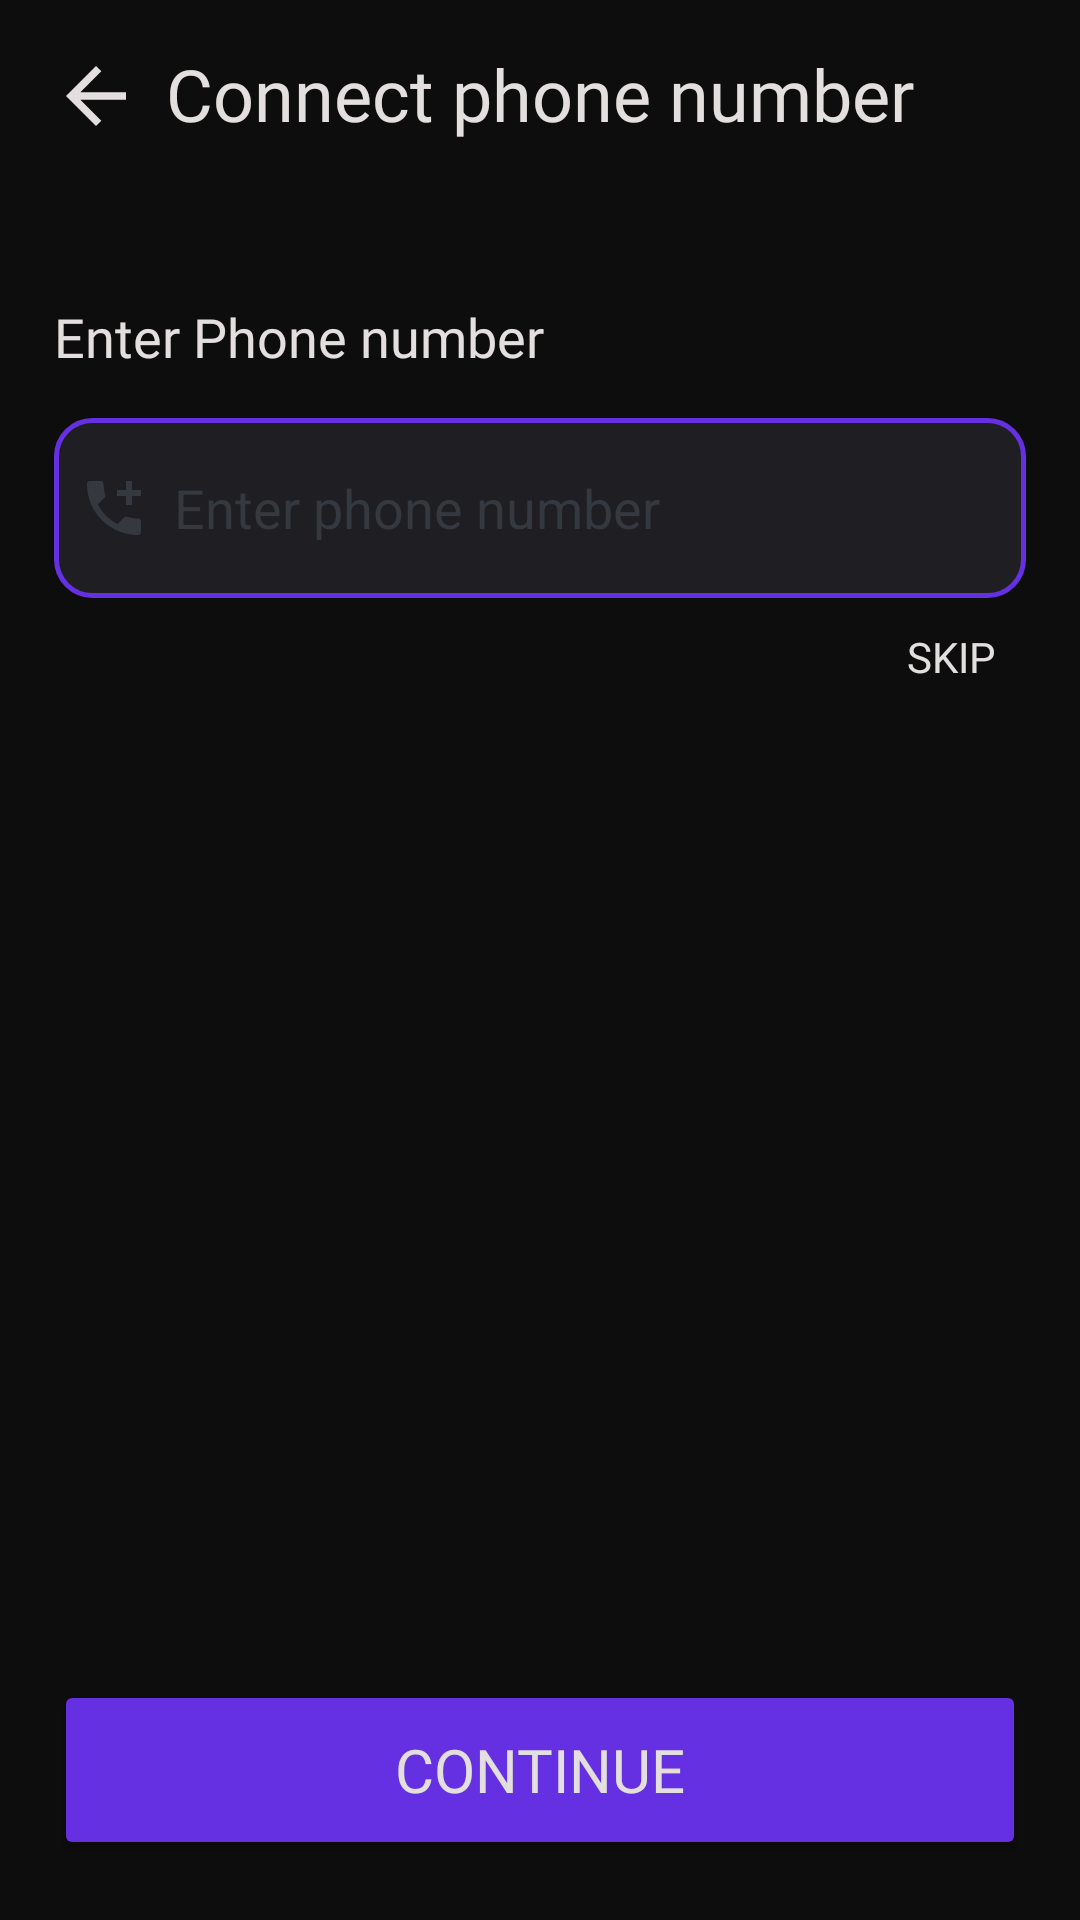

Screen size 1080w x 1920h. Icon name, then its box in pixels as region(x1, y1, x2, y2):
arrow back: region(66, 66, 126, 126)
